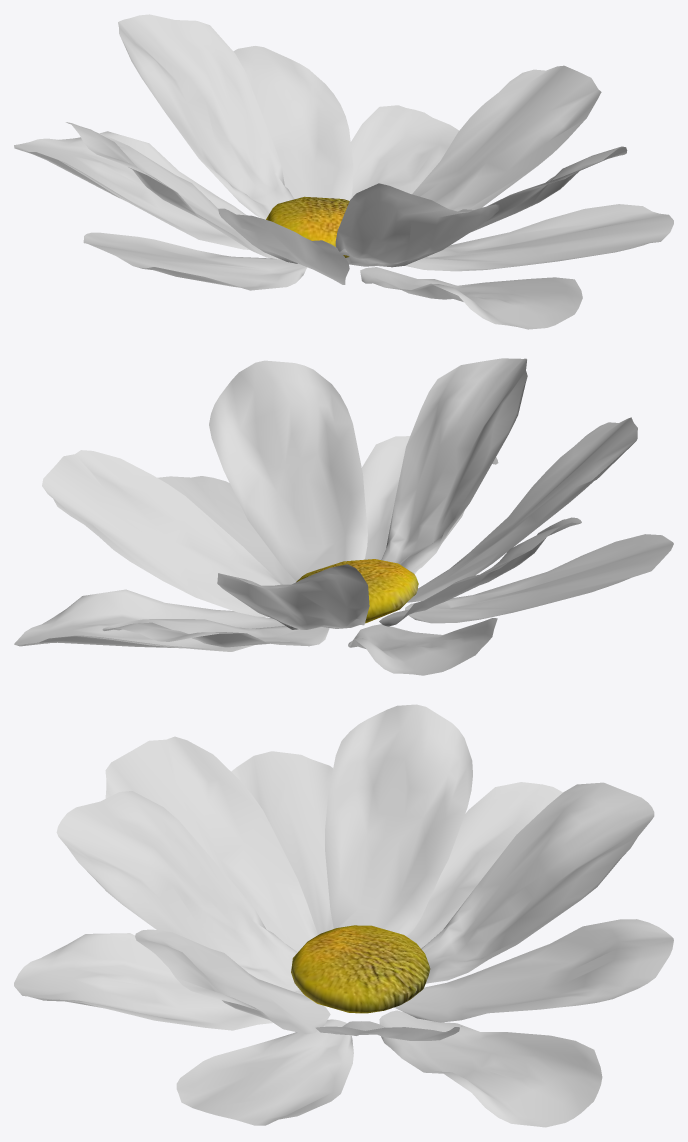
The model's file is daisy_white.glb.
The picture shows the model from 3 angles, top to bottom: view 1: azimuth 30°, elevation 25°; view 2: azimuth 150°, elevation 25°; view 3: azimuth 270°, elevation 25°; orthographic projection. The views are drawn at different scales.
Visible parts, largest first — view 1: daisy_white; view 2: daisy_white; view 3: daisy_white.
Boxes of the visible parts, <box> form: daisy_white: <box>14,14,673,329</box>; daisy_white: <box>14,358,673,675</box>; daisy_white: <box>14,704,673,1127</box>.
Size of the model in its own units: 0.1398 by 0.0445 by 0.1396.
Materials: 2 (1 with a texture image).
